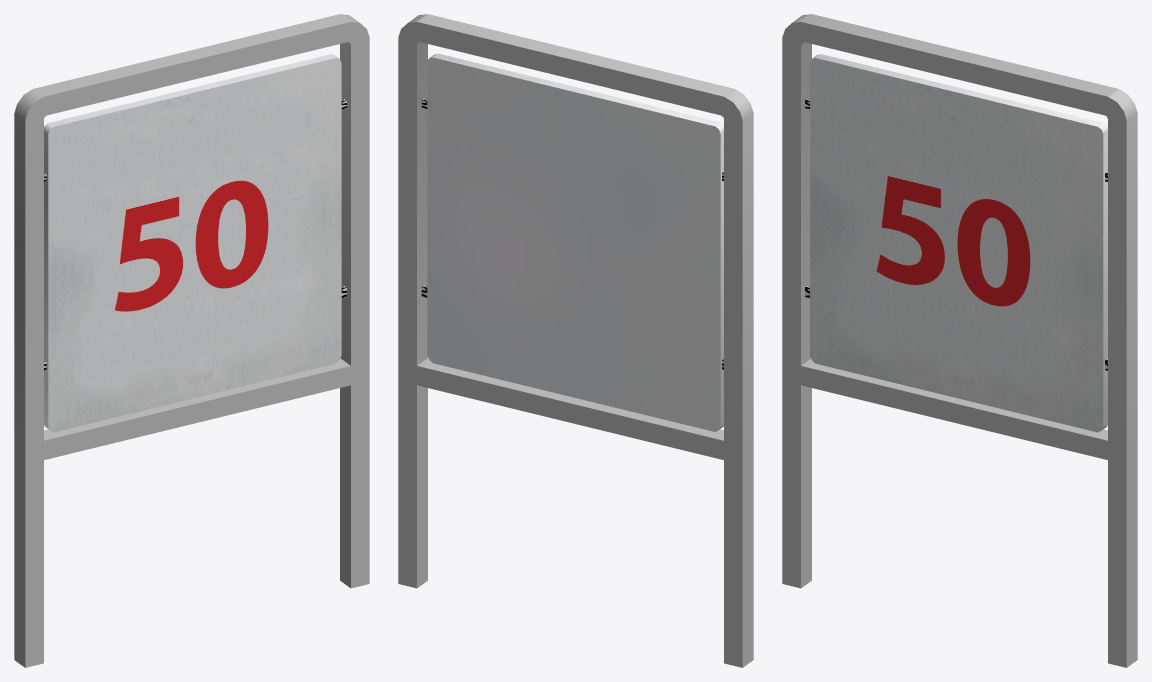
The model's file is Track_Sign_50_Red.fbx.
3 renders of one model, left to right at view 1: azimuth 30°, elevation 25°; view 2: azimuth 150°, elevation 25°; view 3: azimuth 330°, elevation 25°, orthographic.
Visible parts, largest first — view 1: Speed_50, Frame; view 2: Speed_50, Frame; view 3: Speed_50, Frame.
Part boxes in pixels (box(x1,y1,x2,y2)): Speed_50: box(44, 54, 346, 432); Frame: box(14, 14, 369, 667); Speed_50: box(421, 53, 723, 431); Frame: box(398, 14, 753, 667); Speed_50: box(805, 54, 1107, 432); Frame: box(782, 14, 1137, 667).
Bounding box in the file's own units: 130 × 204 × 7.
